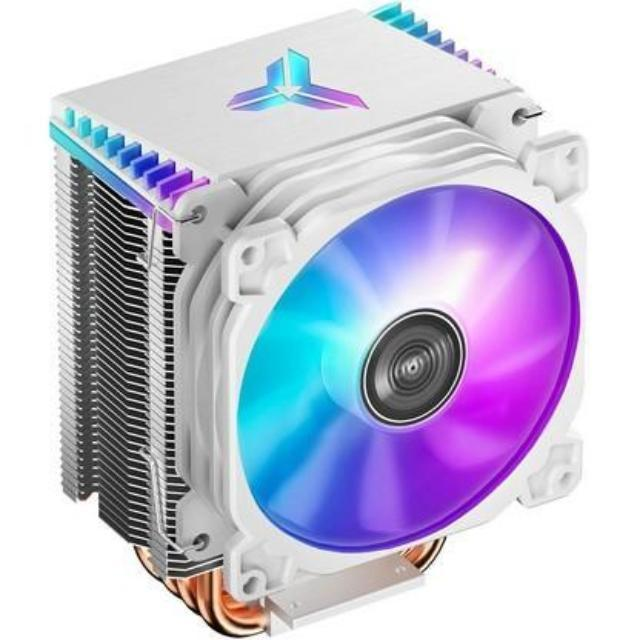CPU_Fan: (52, 7, 590, 638)
